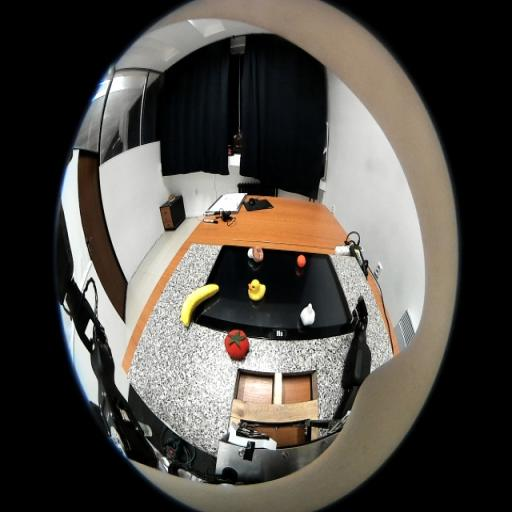Banana: (181, 284, 219, 326)
Duck: (248, 279, 266, 301)
Mushroom: (247, 245, 264, 263)
Onion: (300, 303, 315, 325)
Orange: (297, 254, 306, 268)
RightHand: (355, 318, 367, 334)
Tomato: (225, 329, 249, 360)
